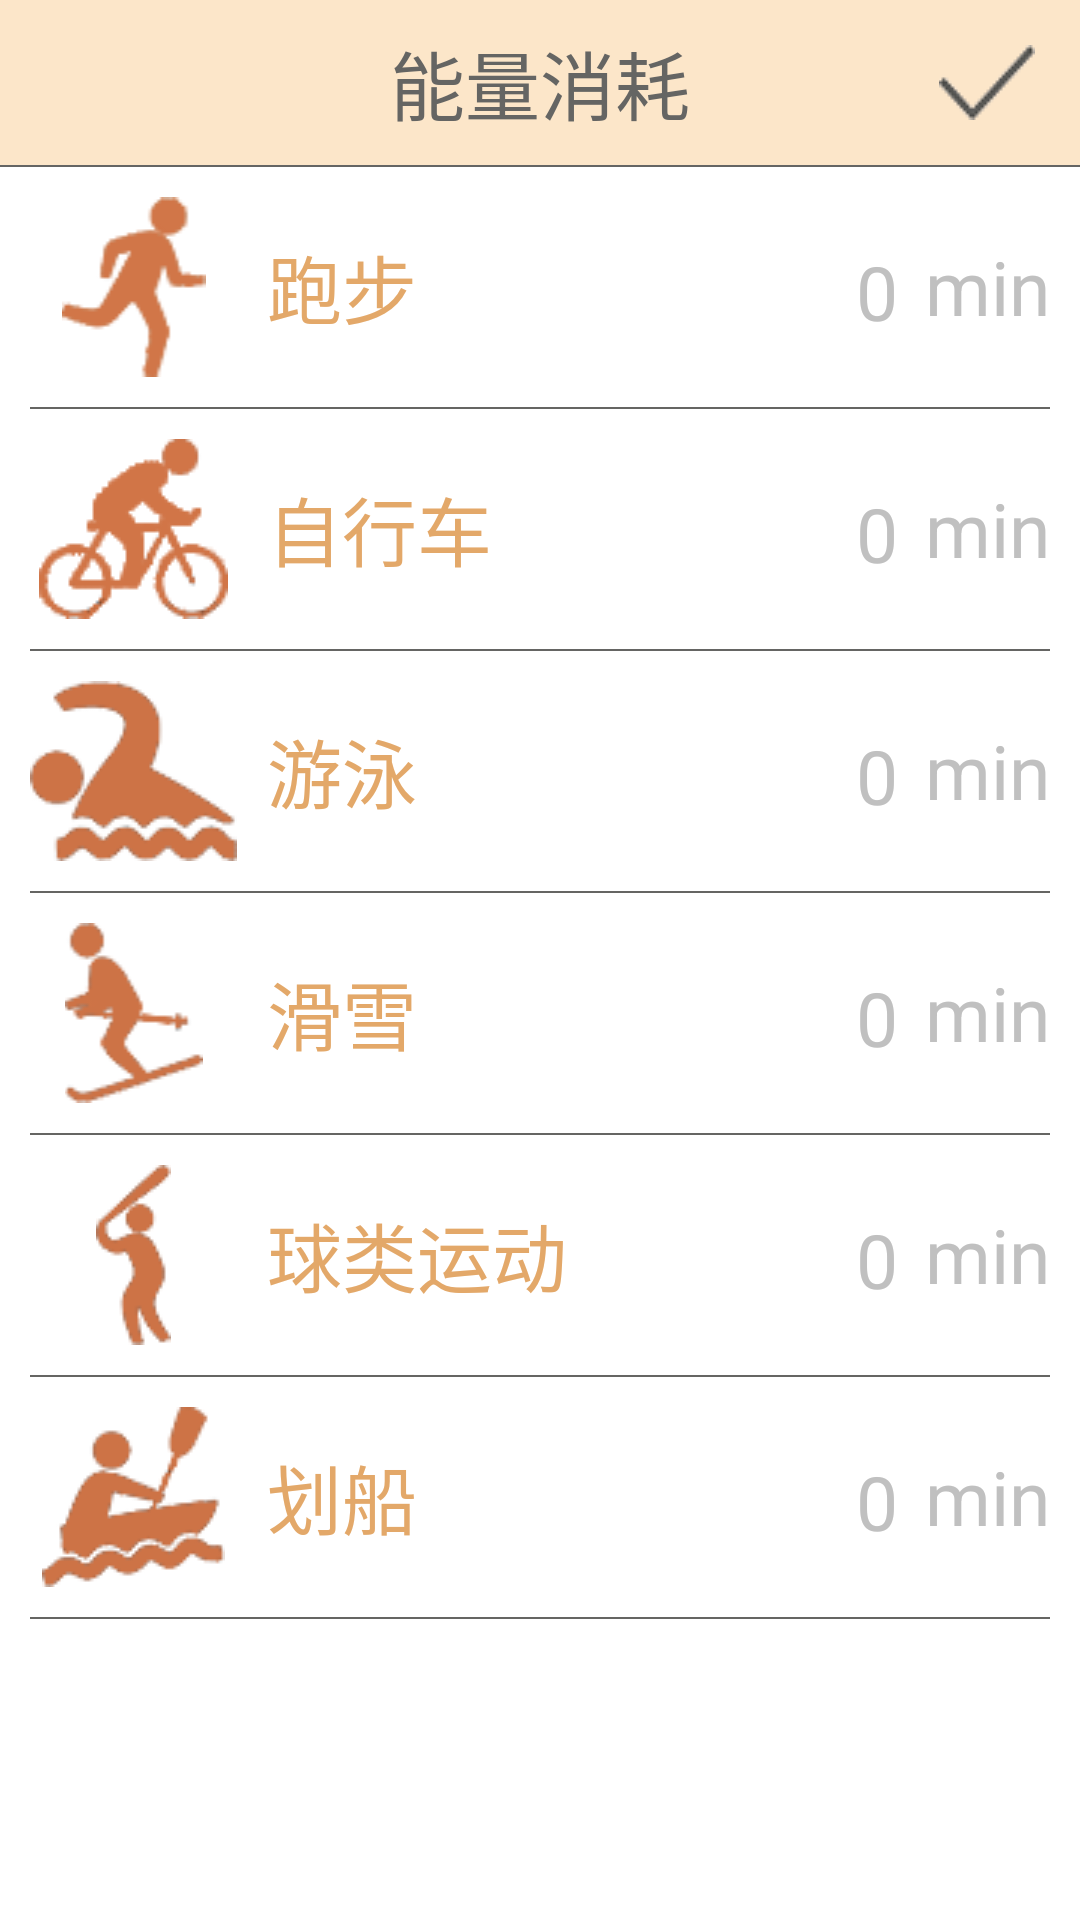

Icon bounding boxes for this 1080x1920 phone screenshot, format (x1, y1, x2, y2):
baseball pic: (96, 1165, 171, 1345)
bicycle pic: (39, 439, 228, 619)
boat pic: (42, 1407, 225, 1587)
ski pic: (65, 923, 203, 1103)
top tab save: (939, 45, 1035, 120)
